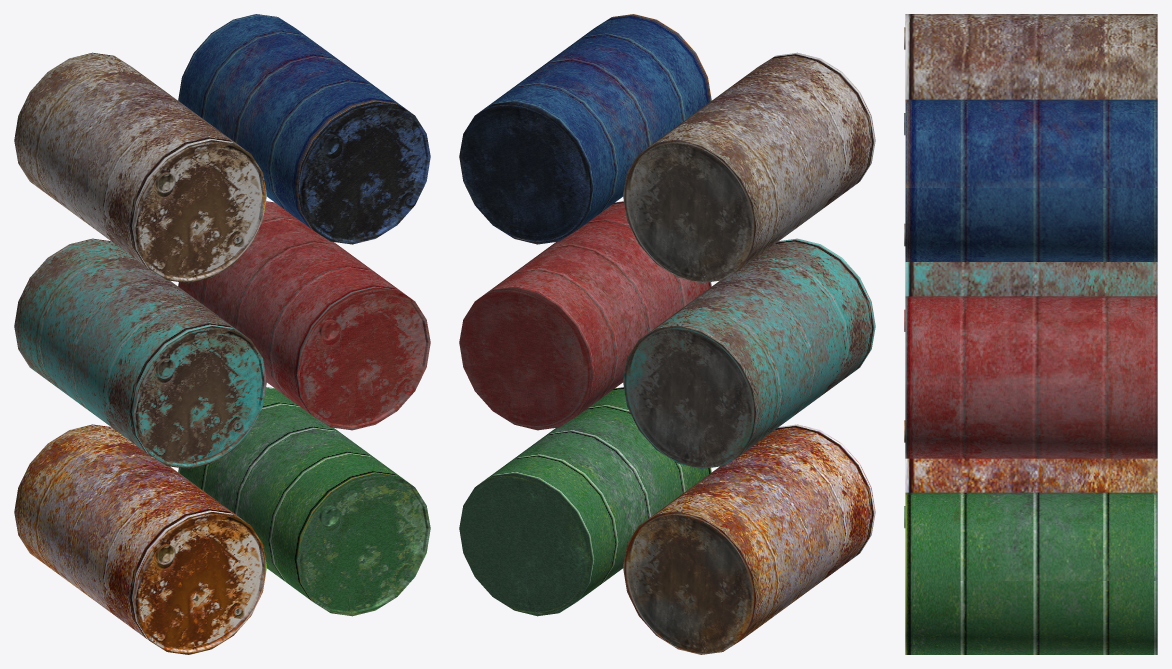
The model's file is barrels.obj.
3 views of the same model, side by side, from view 1: azimuth 30°, elevation 25°; view 2: azimuth 150°, elevation 25°; view 3: azimuth 270°, elevation 25° (orthographic). The views are drawn at different scales.
Visible parts, largest first — view 1: barell06, barell04, barell01, barell05, barell03, barell02; view 2: barell06, barell04, barell01, barell05, barell03, barell02; view 3: barell02, barell03, barell05, barell06, barell01, barell04.
Part boxes in pixels (bbox=[...]): barell06: bbox=[14, 52, 266, 283]; barell04: bbox=[14, 238, 266, 468]; barell01: bbox=[14, 424, 266, 654]; barell05: bbox=[178, 14, 430, 244]; barell03: bbox=[178, 201, 430, 430]; barell02: bbox=[178, 387, 430, 616]; barell06: bbox=[623, 52, 875, 283]; barell04: bbox=[623, 238, 875, 468]; barell01: bbox=[623, 424, 875, 654]; barell05: bbox=[459, 14, 711, 244]; barell03: bbox=[459, 201, 711, 430]; barell02: bbox=[459, 387, 711, 616]; barell02: bbox=[904, 492, 1157, 654]; barell03: bbox=[904, 296, 1157, 458]; barell05: bbox=[904, 99, 1157, 261]; barell06: bbox=[904, 14, 1157, 99]; barell01: bbox=[904, 420, 1157, 492]; barell04: bbox=[904, 223, 1157, 296].
Bounding box in the file's own units: 256 × 420 × 179.
